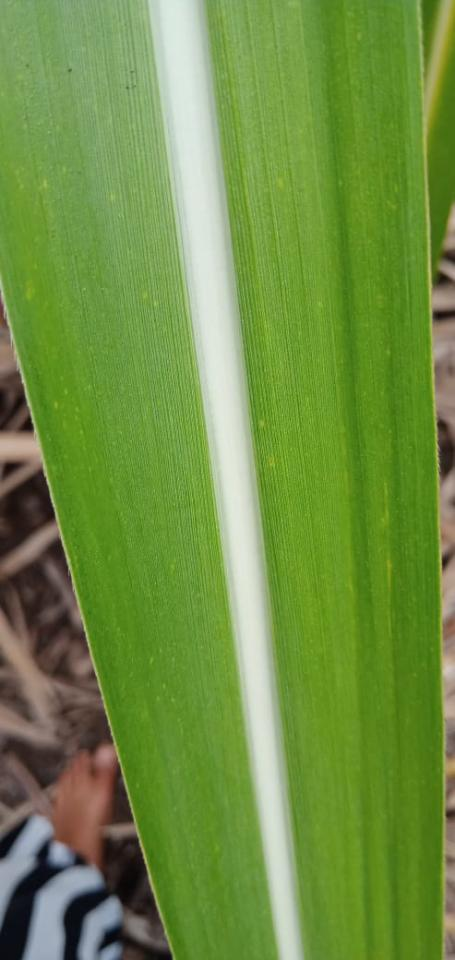Healthy: (0, 0, 442, 959)
